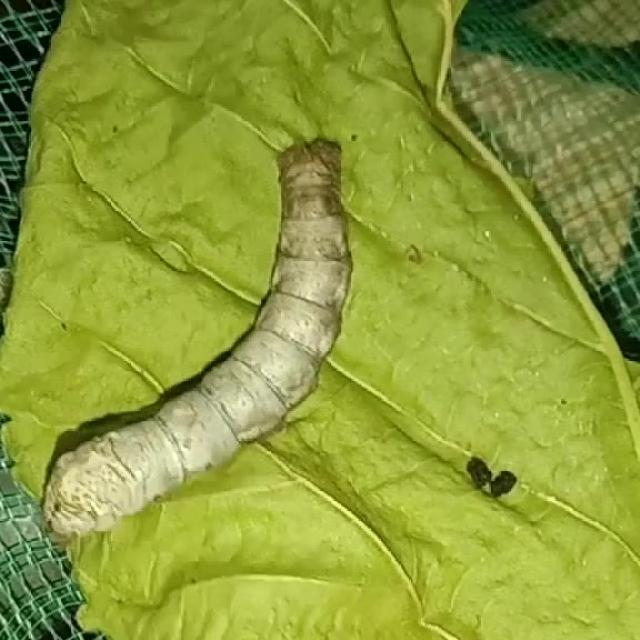Grasserie: (38, 106, 415, 600), (362, 576, 369, 576)
